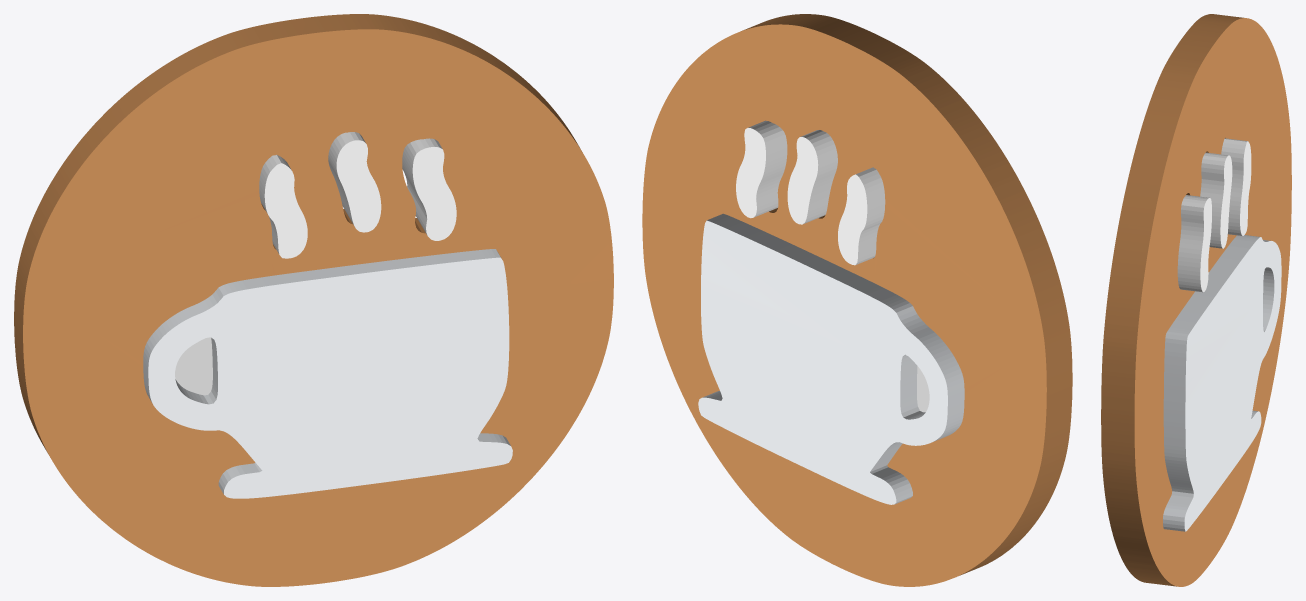
Rendered from cafe.glb.
The picture shows the model from 3 angles, left to right: view 1: azimuth 30°, elevation 25°; view 2: azimuth 150°, elevation 25°; view 3: azimuth 270°, elevation 25°; orthographic projection. The views are drawn at different scales.
Visible parts, largest first — view 1: imagetostl_mesh0, imagetostl_mesh2, imagetostl_mesh3, imagetostl_mesh4, imagetostl_mesh5, imagetostl_mesh1; view 2: imagetostl_mesh0, imagetostl_mesh2, imagetostl_mesh3, imagetostl_mesh4, imagetostl_mesh5; view 3: imagetostl_mesh0, imagetostl_mesh2, imagetostl_mesh3, imagetostl_mesh4, imagetostl_mesh5.
Part boxes in pixels (<box>): imagetostl_mesh0: <box>14,14,613,586</box>; imagetostl_mesh2: <box>143,249,512,498</box>; imagetostl_mesh3: <box>402,138,456,240</box>; imagetostl_mesh4: <box>328,132,381,232</box>; imagetostl_mesh5: <box>259,154,307,258</box>; imagetostl_mesh1: <box>175,337,212,395</box>; imagetostl_mesh0: <box>642,14,1072,586</box>; imagetostl_mesh2: <box>698,213,964,504</box>; imagetostl_mesh3: <box>736,120,787,218</box>; imagetostl_mesh4: <box>787,130,837,224</box>; imagetostl_mesh5: <box>838,167,885,265</box>; imagetostl_mesh0: <box>1101,14,1291,586</box>; imagetostl_mesh2: <box>1162,235,1281,531</box>; imagetostl_mesh3: <box>1177,195,1211,292</box>; imagetostl_mesh4: <box>1200,152,1232,248</box>; imagetostl_mesh5: <box>1221,138,1251,235</box>.
Size of the model in its own units: 97.69 by 99.85 by 33.55.
